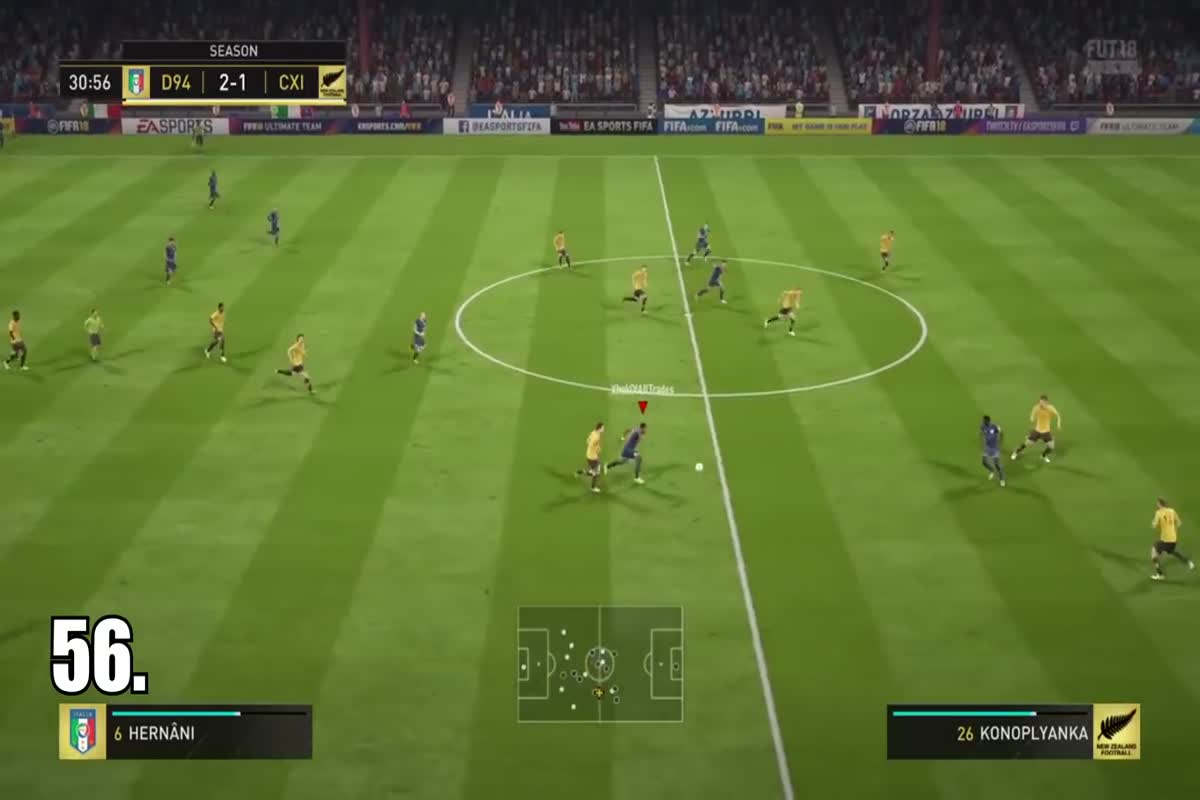ball: (689, 456, 714, 477)
